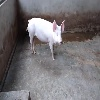heo: (24, 15, 66, 62)
